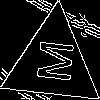M: (28, 37, 74, 85)
